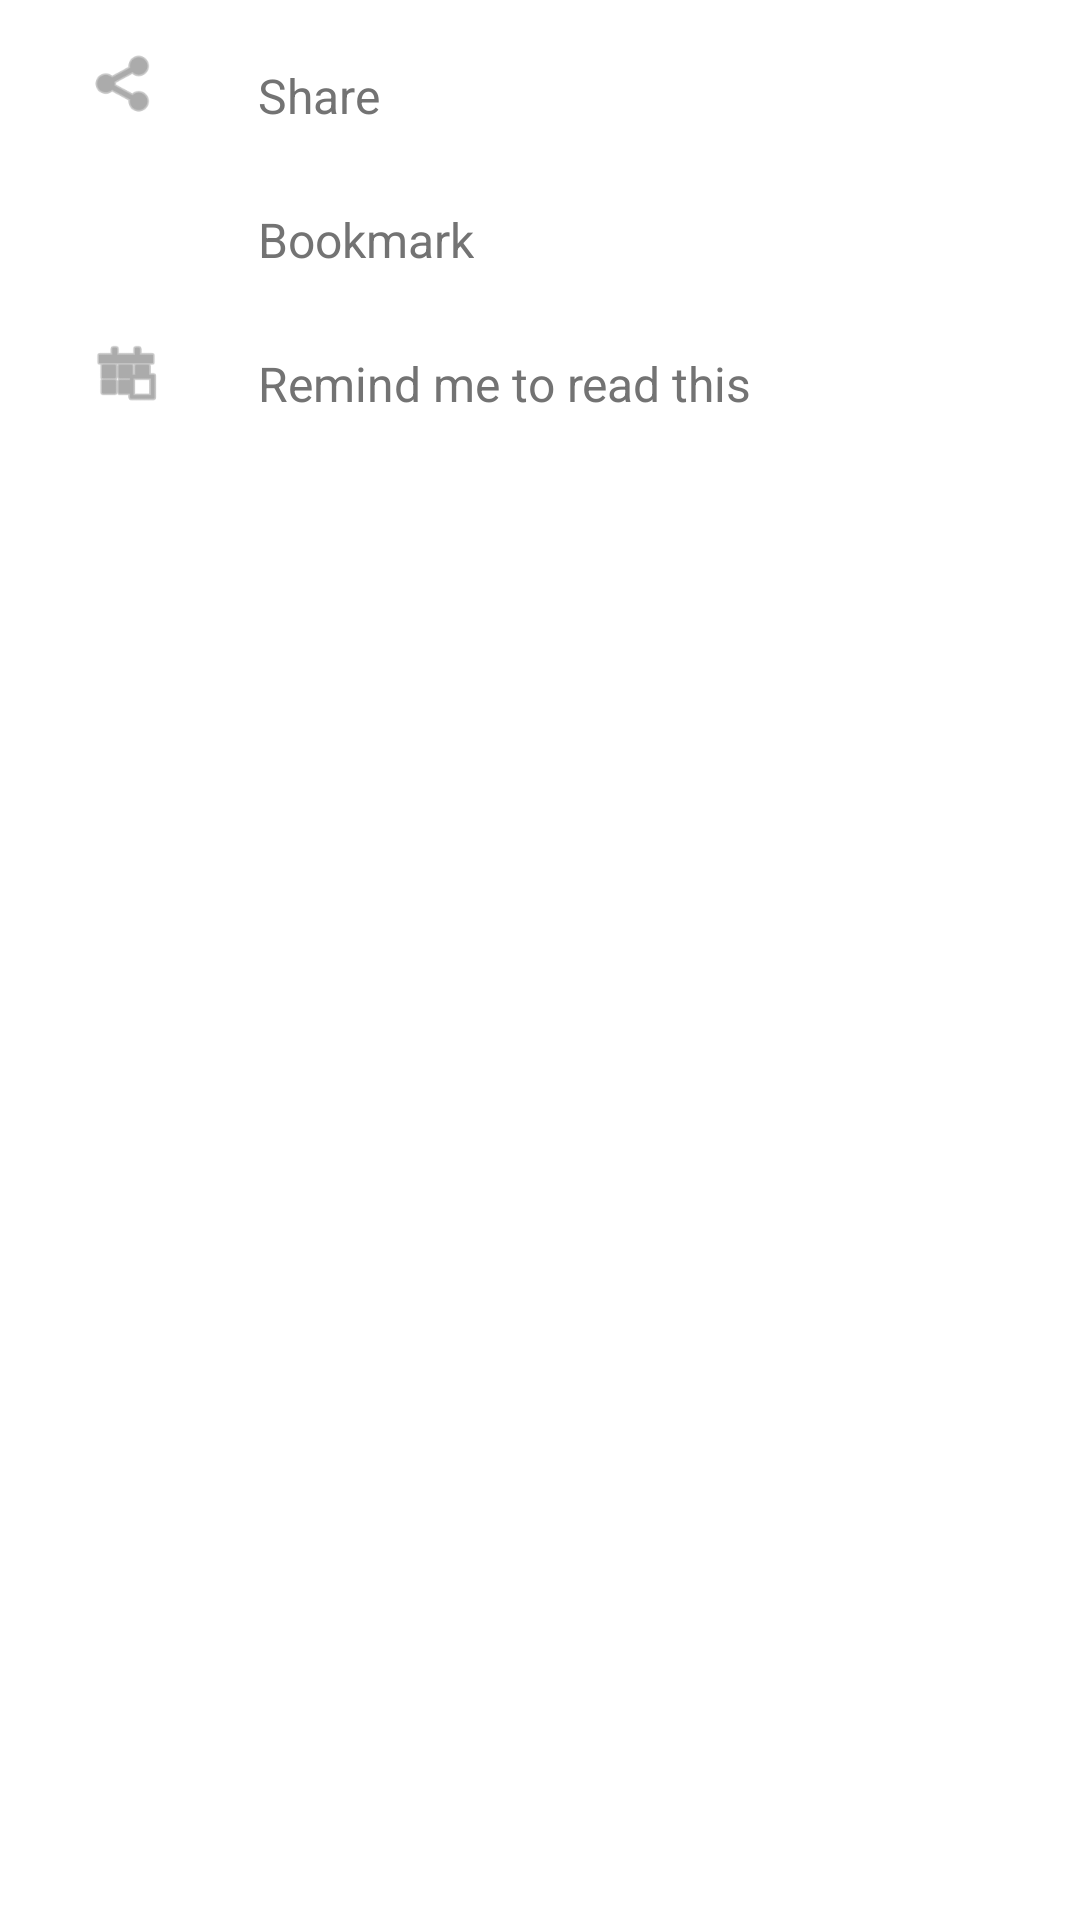

Screen size 1080x1920. Icon name, then its center in pixels as (x=x, y=y):
today: (x=126, y=373)
